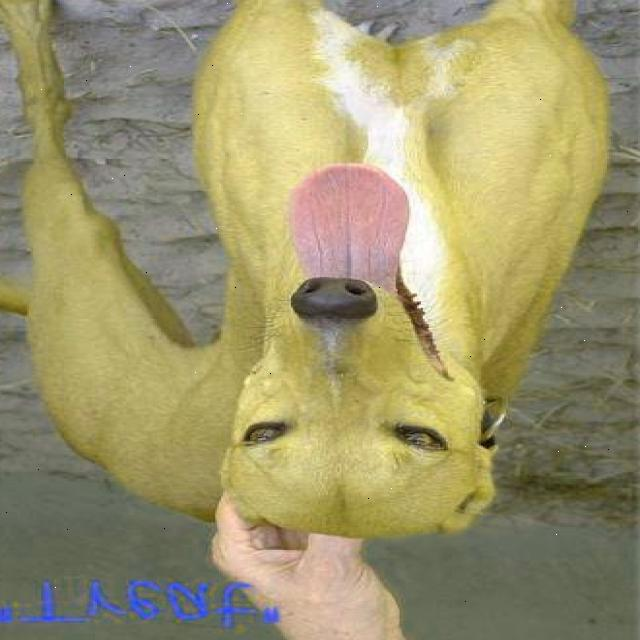Dog: (194, 152, 520, 558)
